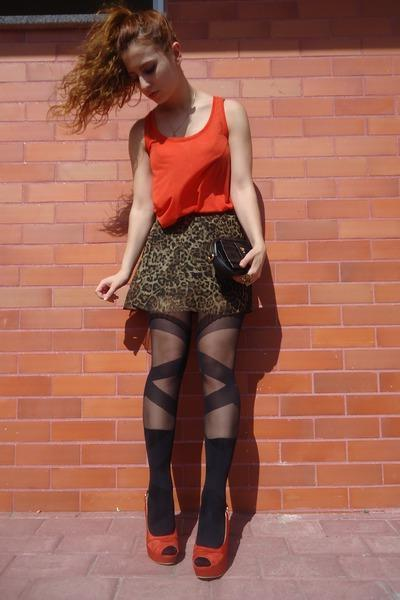skirt: (118, 212, 263, 317)
vest: (131, 93, 235, 231)
